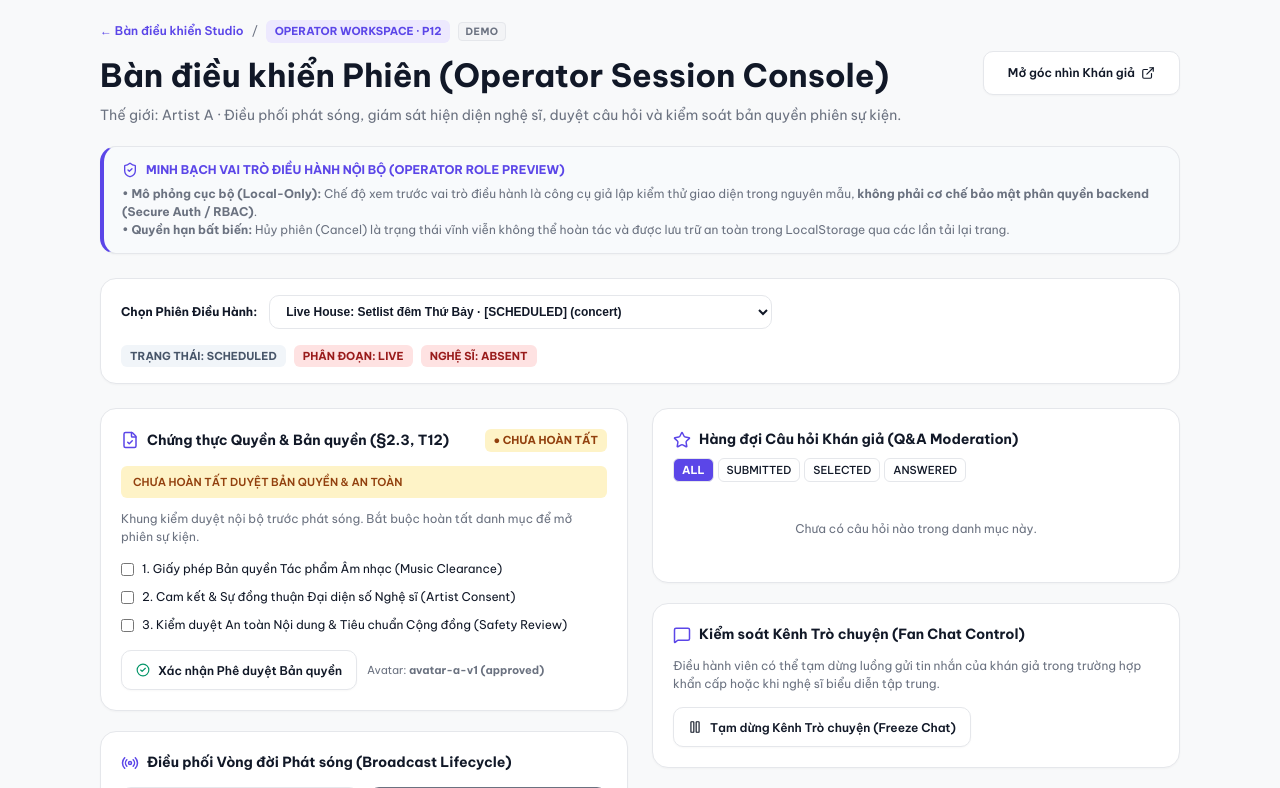
Test case: T12 Acceptance: Operator Session Console & Orchestration › 2. Operator Console UI & Controls › shows unapproved rights warning and disables start button for session-house-01 until cleared
The image size is (1280, 788).
Check: the text "● CHƯA HOÀN TẤT" is shown, box [484, 429, 607, 452]
Check: the text "CHƯA HOÀN TẤT DUYỆT BẢN QUYỀN & AN TOÀN" is shown, box [121, 466, 607, 498]
What coordinates should you click on to do the following:
click the checkbox with test id "chk-musicClearance"
I would click on:
 (128, 569)
Its box is [121, 562, 134, 576].
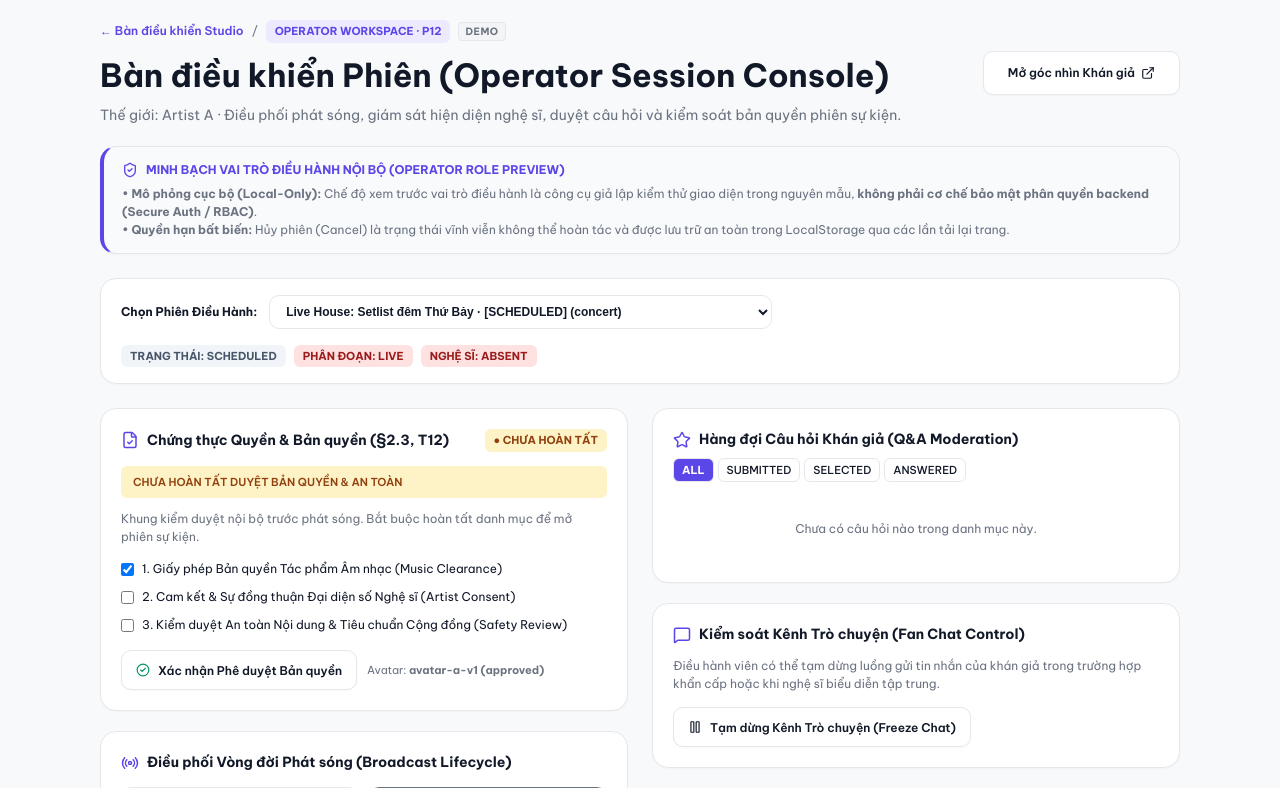
What coordinates should you click on to do the following:
click the checkbox with test id "chk-artistConsent"
I would click on:
 (128, 597)
Its box is [121, 590, 134, 604].
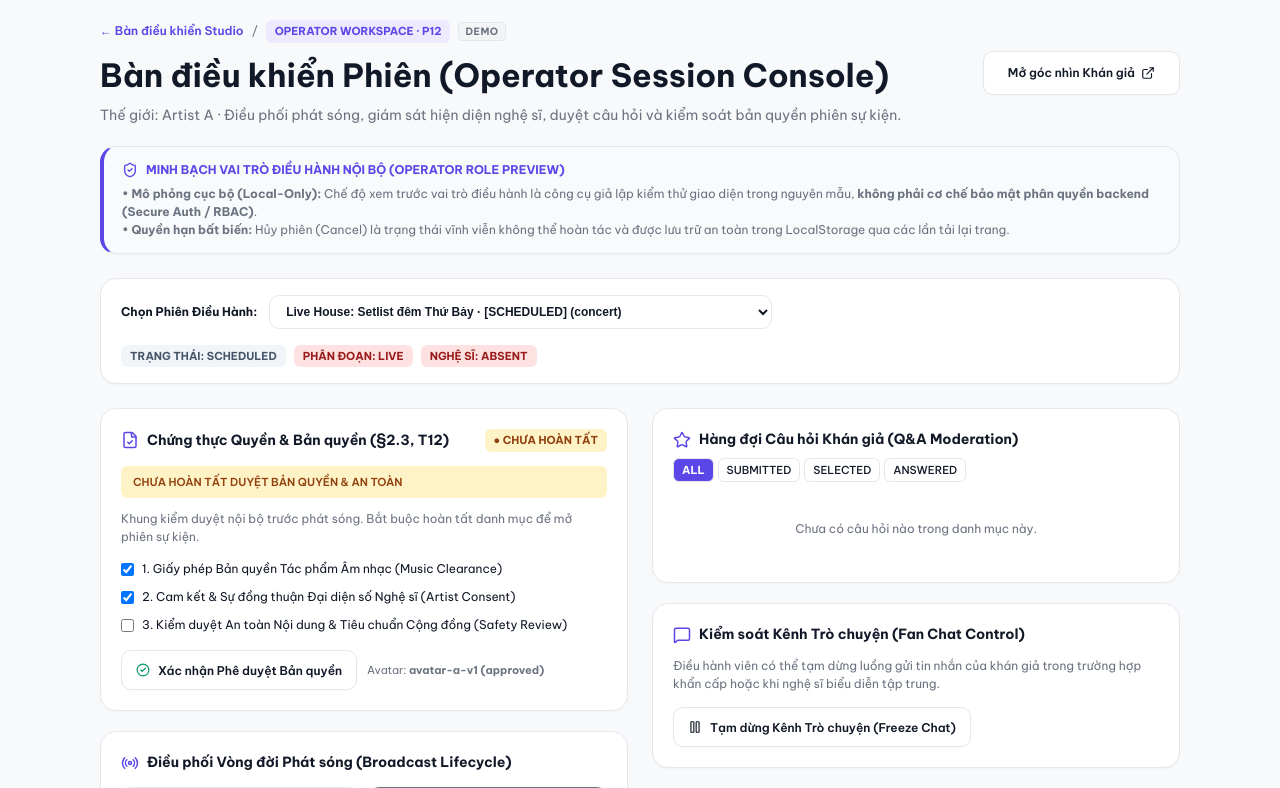
What coordinates should you click on to do the following:
click the checkbox with test id "chk-safetyReview"
I would click on:
 (128, 625)
Its box is [121, 618, 134, 632].
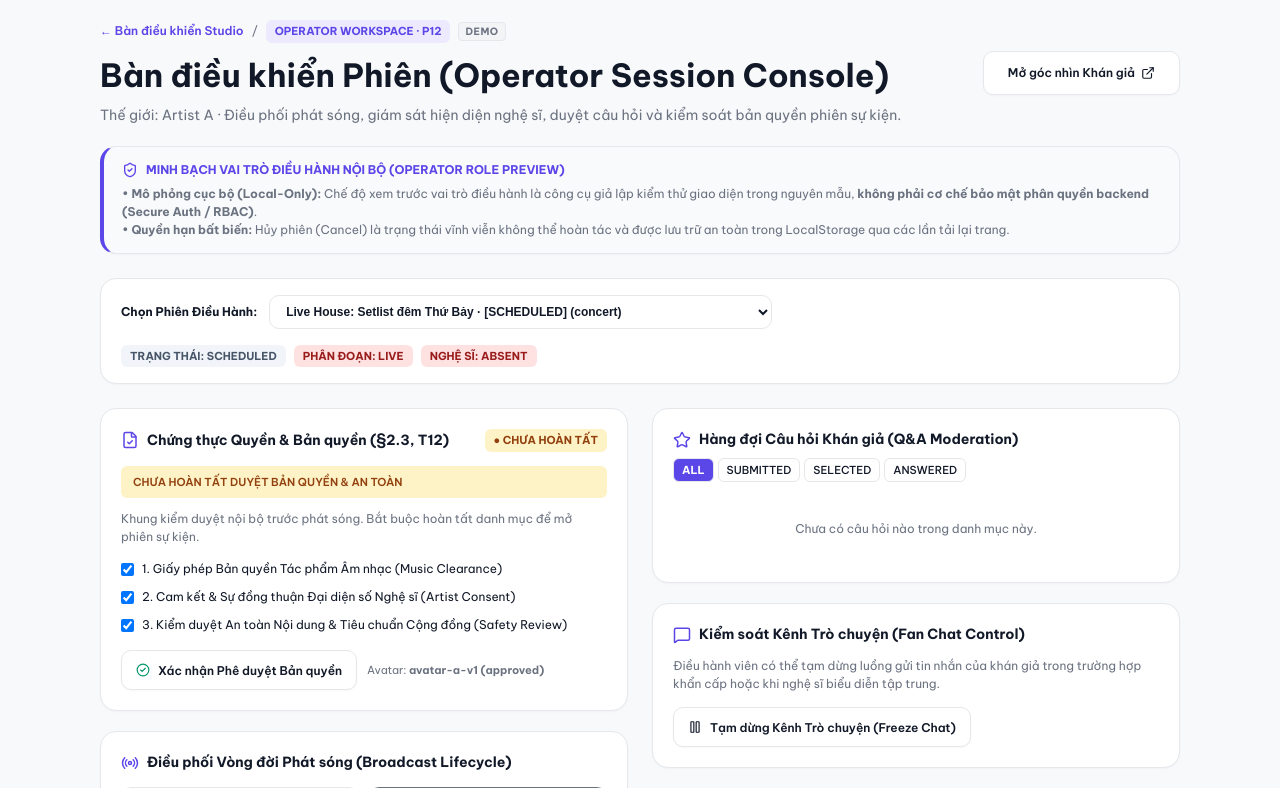
Click Approve Rights button
What coordinates should you click on to do the following:
click the button with test id "approve-rights-btn"
I would click on:
 (239, 670)
Its box is [121, 650, 357, 690].
(page scrolled)
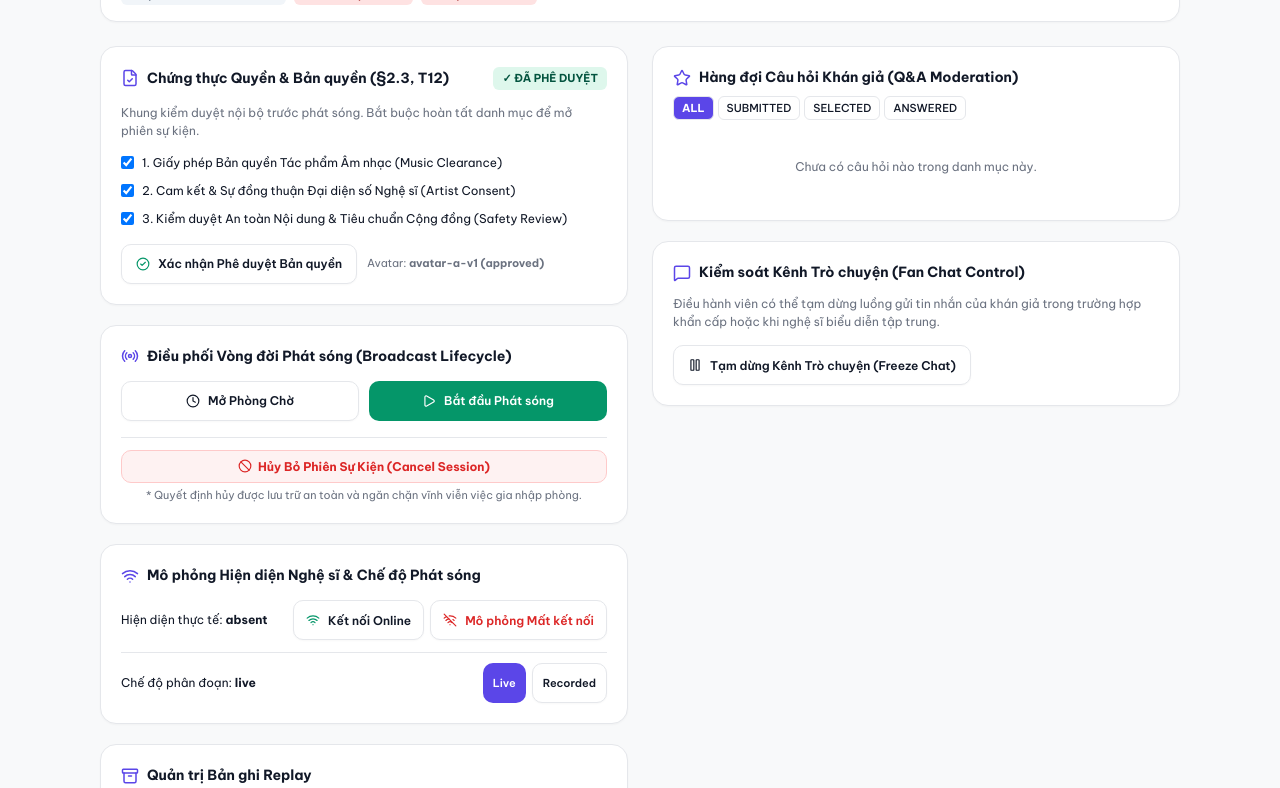
Check: the text "✓ ĐÃ PHÊ DUYỆT" is shown, box [493, 67, 607, 90]
Check: the button with test id "start-session-btn" is enabled, box [369, 380, 607, 420]
